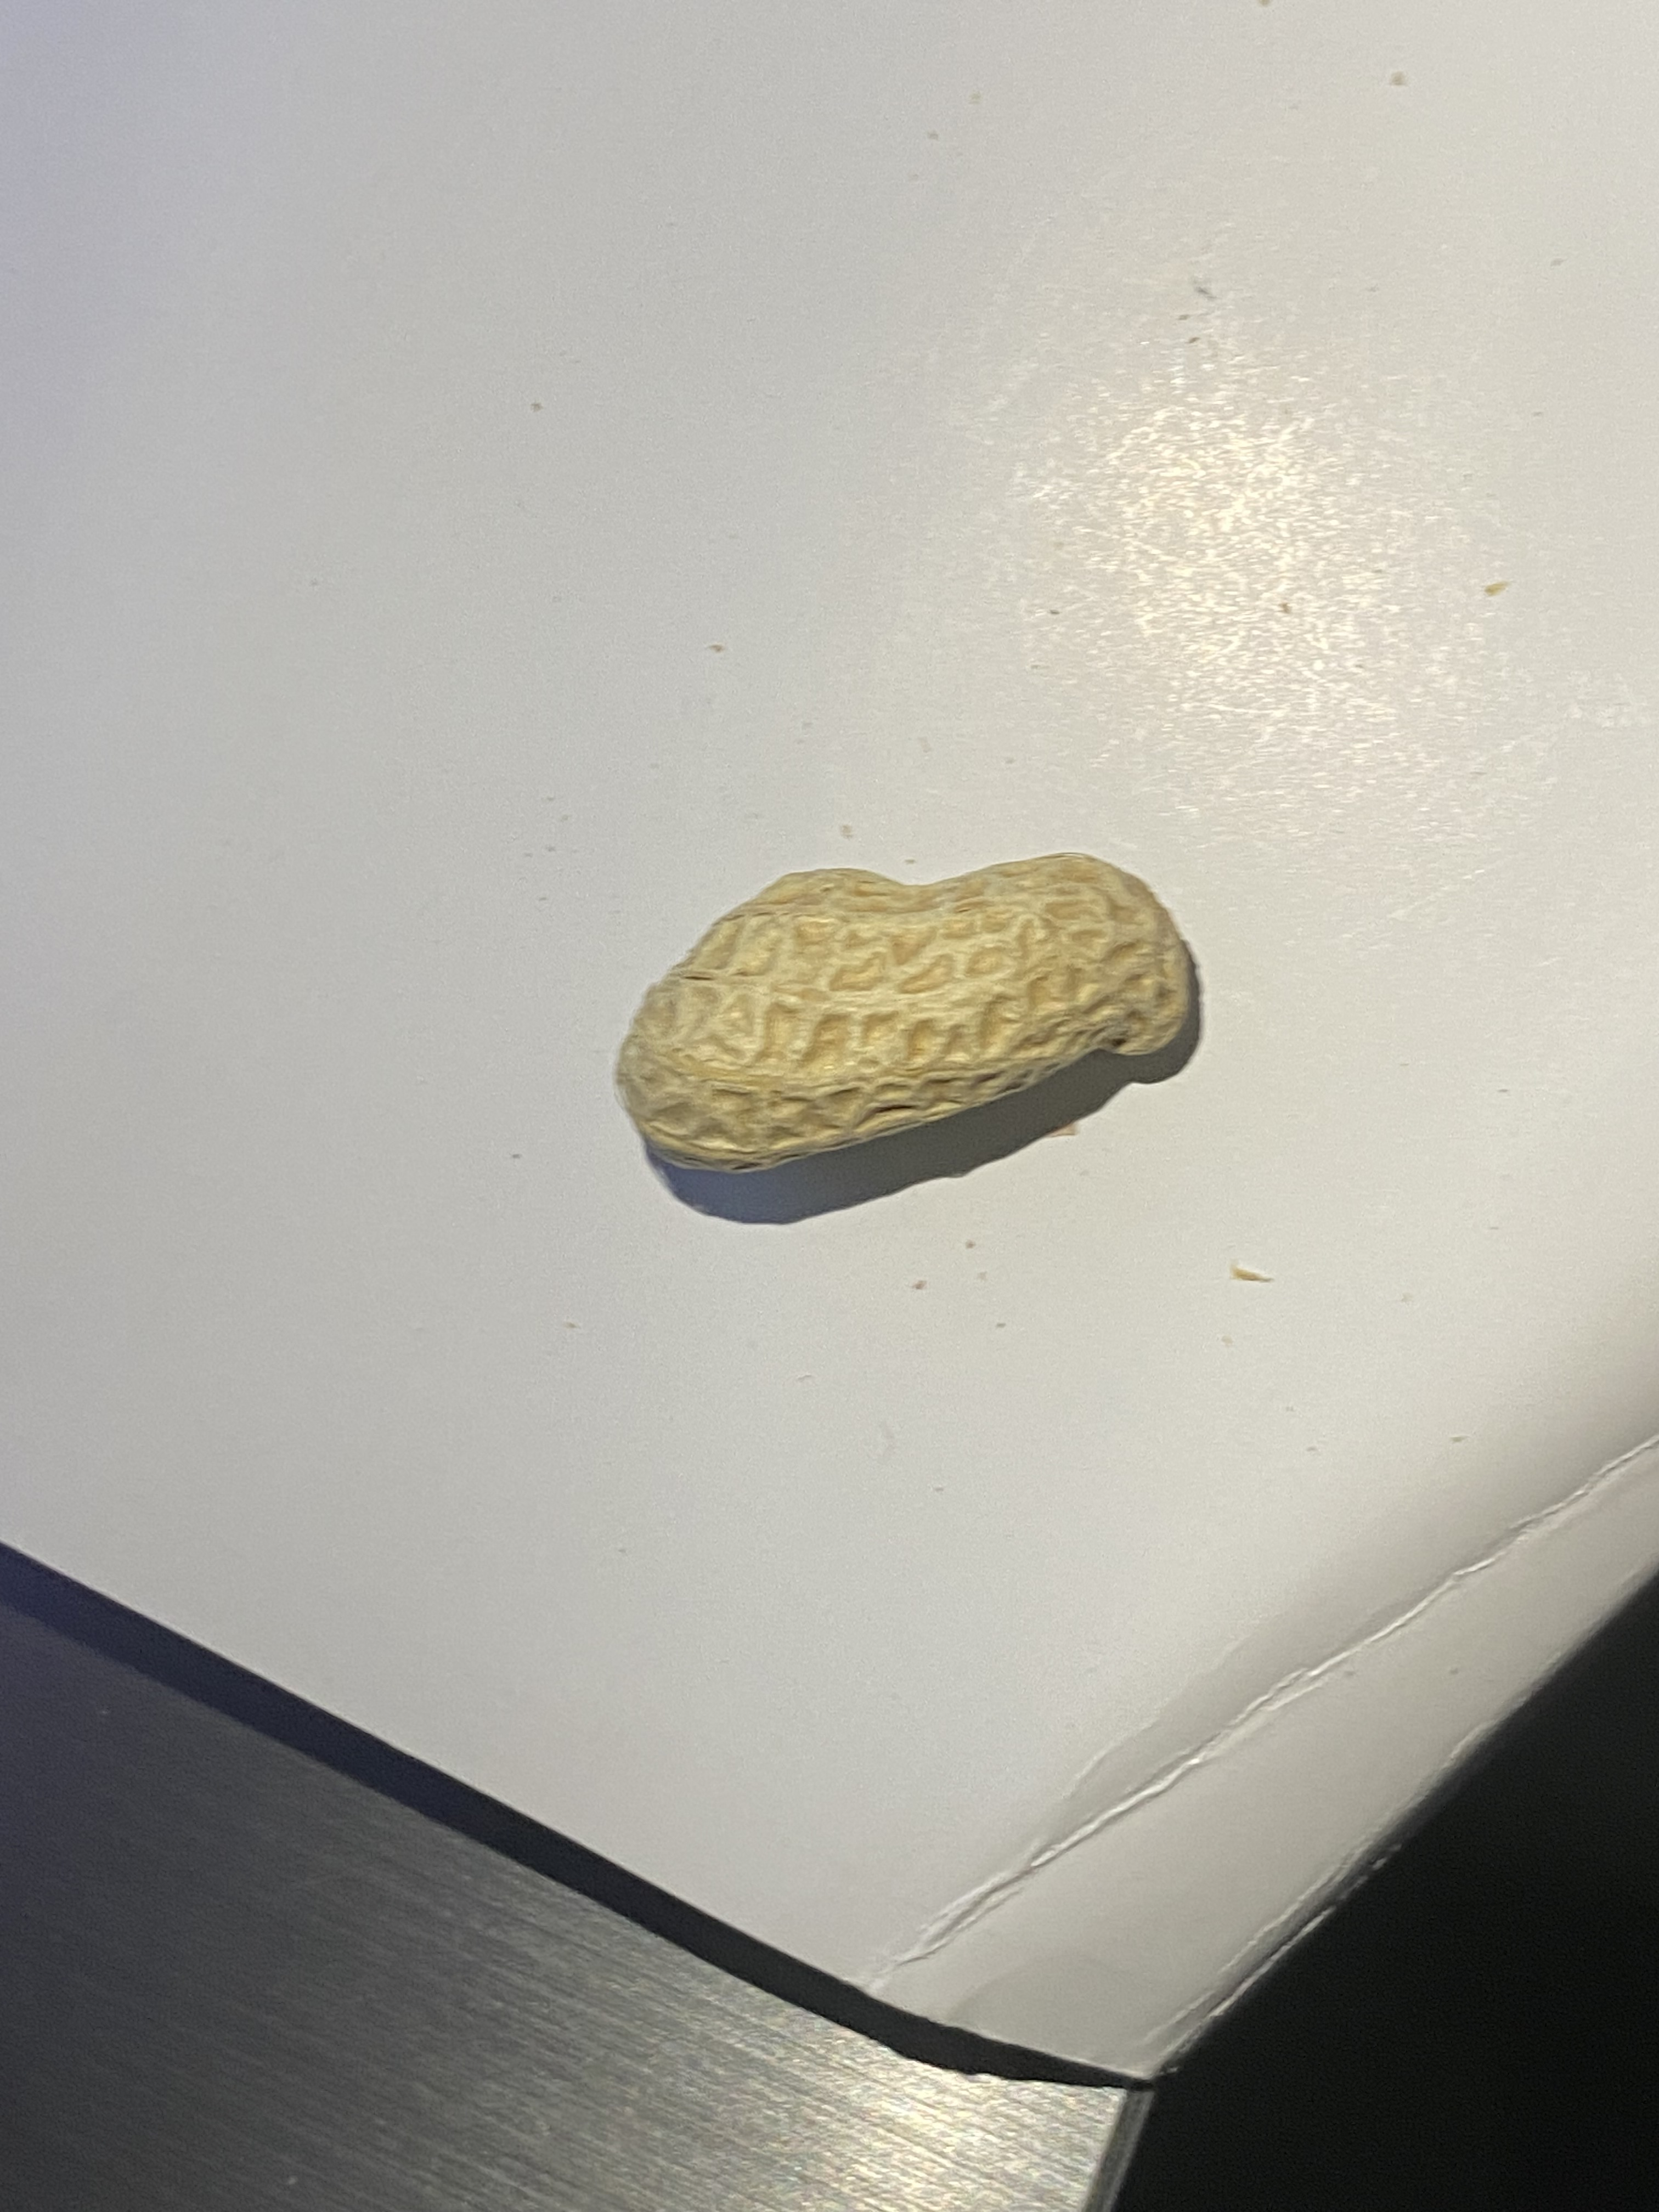kacang2: (575, 845, 1239, 1216)
